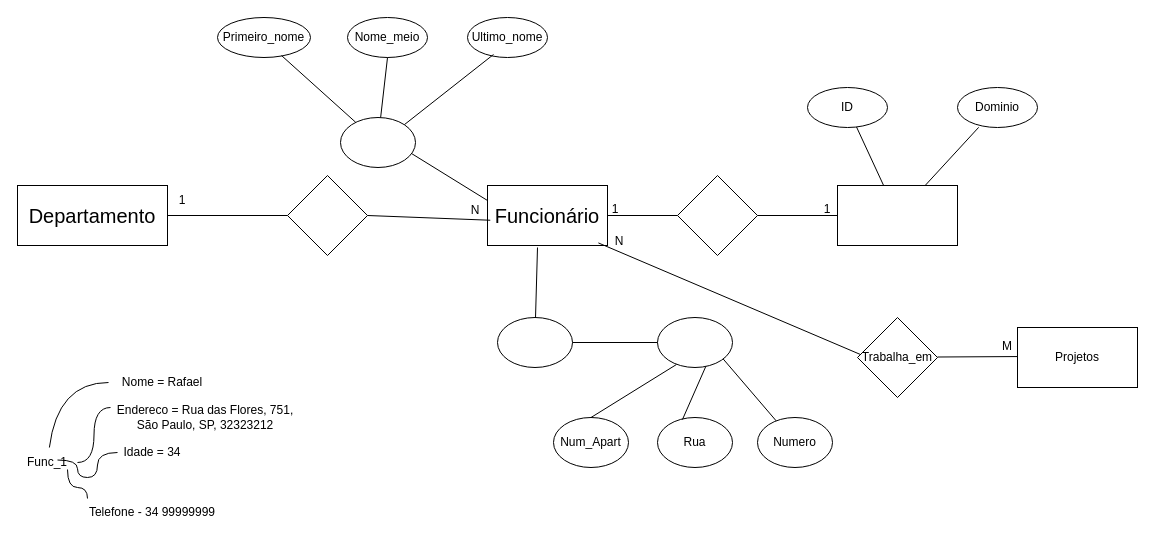
This 1155x545 diagram has some shape labels left out. Here are the shapes that lost their labels. From the top down, the box of each, then its label:
(340, 116, 416, 168): Nome
(286, 174, 368, 256): Trabalha_para
(676, 174, 758, 256): Representa
(836, 184, 958, 246): Usuário
(496, 316, 572, 368): Endereço
(656, 316, 732, 368): Logradouro
